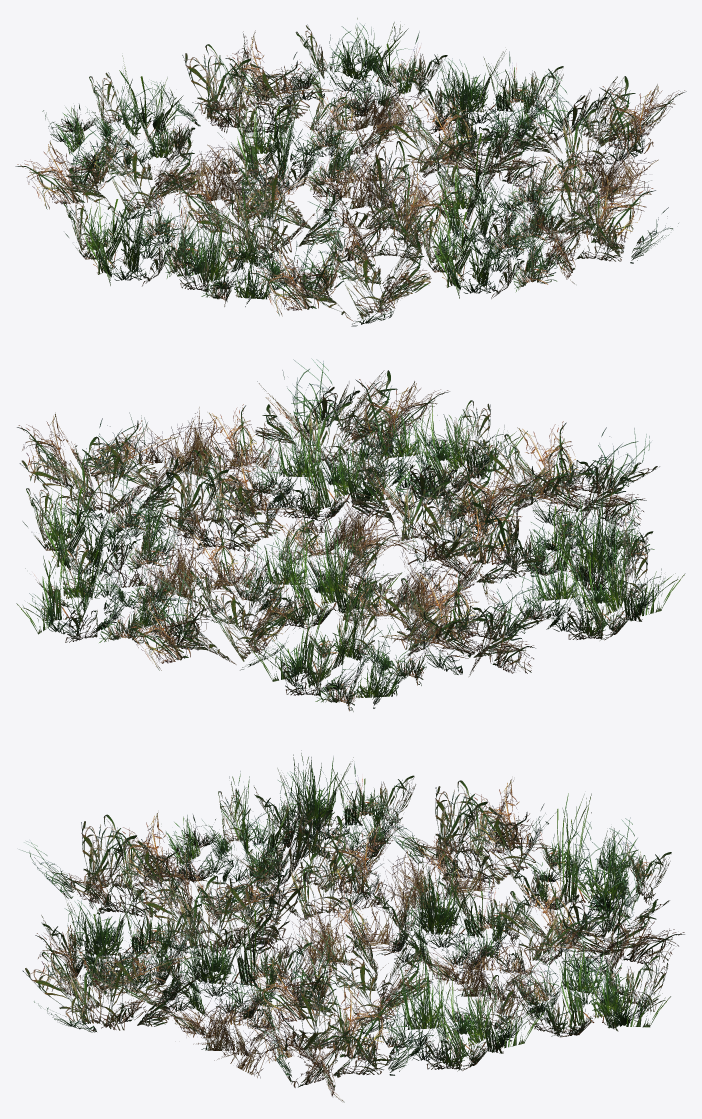
The model's file is grass_short.fbx.
3 renders of one model, top to bottom at view 1: azimuth 30°, elevation 25°; view 2: azimuth 150°, elevation 25°; view 3: azimuth 270°, elevation 25°, orthographic. The views are drawn at different scales.
Visible parts, largest first — view 1: leaf_bigpatch_medium_mesh; view 2: leaf_bigpatch_medium_mesh; view 3: leaf_bigpatch_medium_mesh.
Part boxes in pixels (bbox=[...]): leaf_bigpatch_medium_mesh: bbox=[15, 18, 686, 326]; leaf_bigpatch_medium_mesh: bbox=[16, 358, 685, 711]; leaf_bigpatch_medium_mesh: bbox=[19, 750, 684, 1102].
Size of the model in its own units: 16.75 by 2.5 by 15.12.
1 material, 1 textured.
